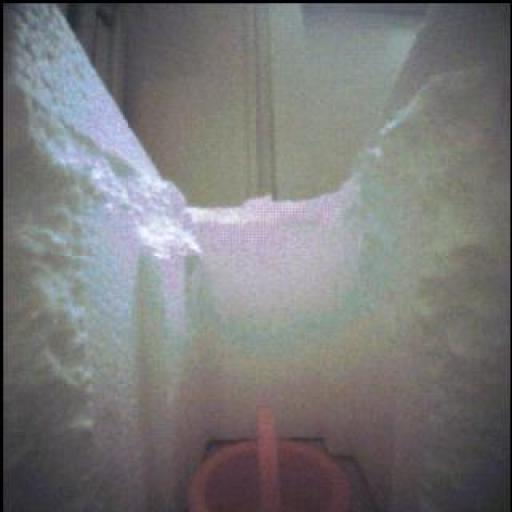Basket: (182, 409, 362, 512)
